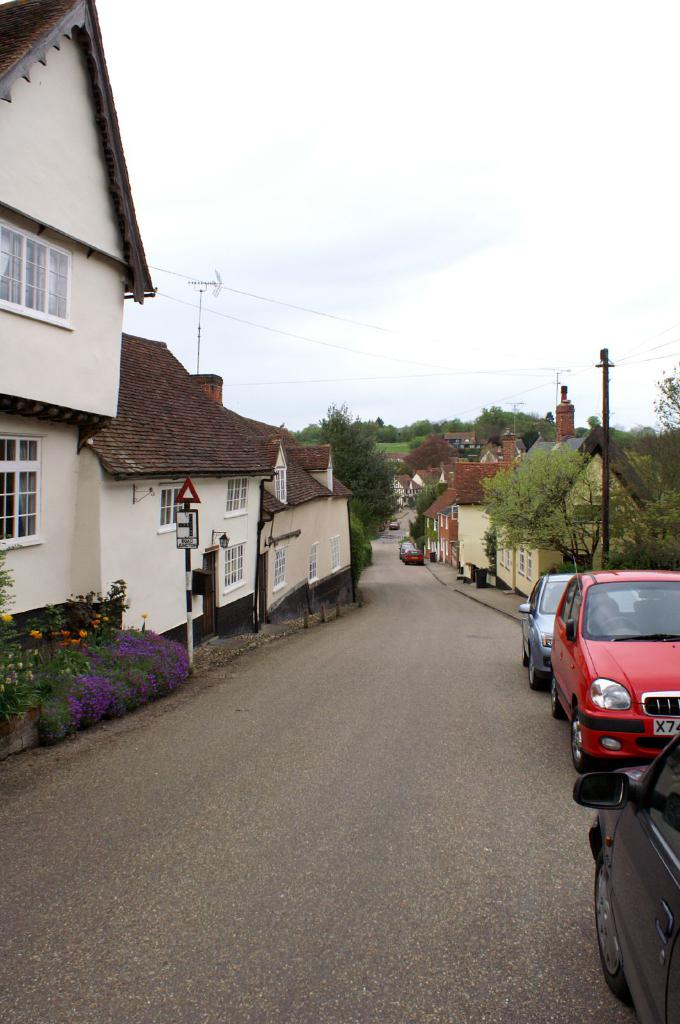Car: (562, 736, 679, 1023), (550, 562, 679, 774), (524, 566, 577, 693)
